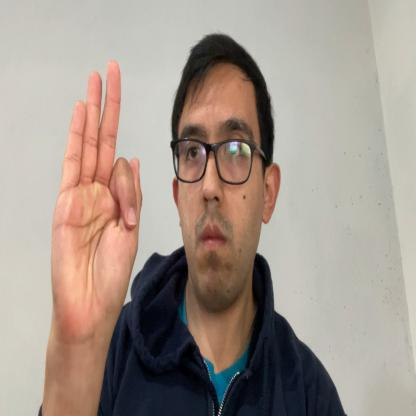F: (50, 61, 143, 341)
